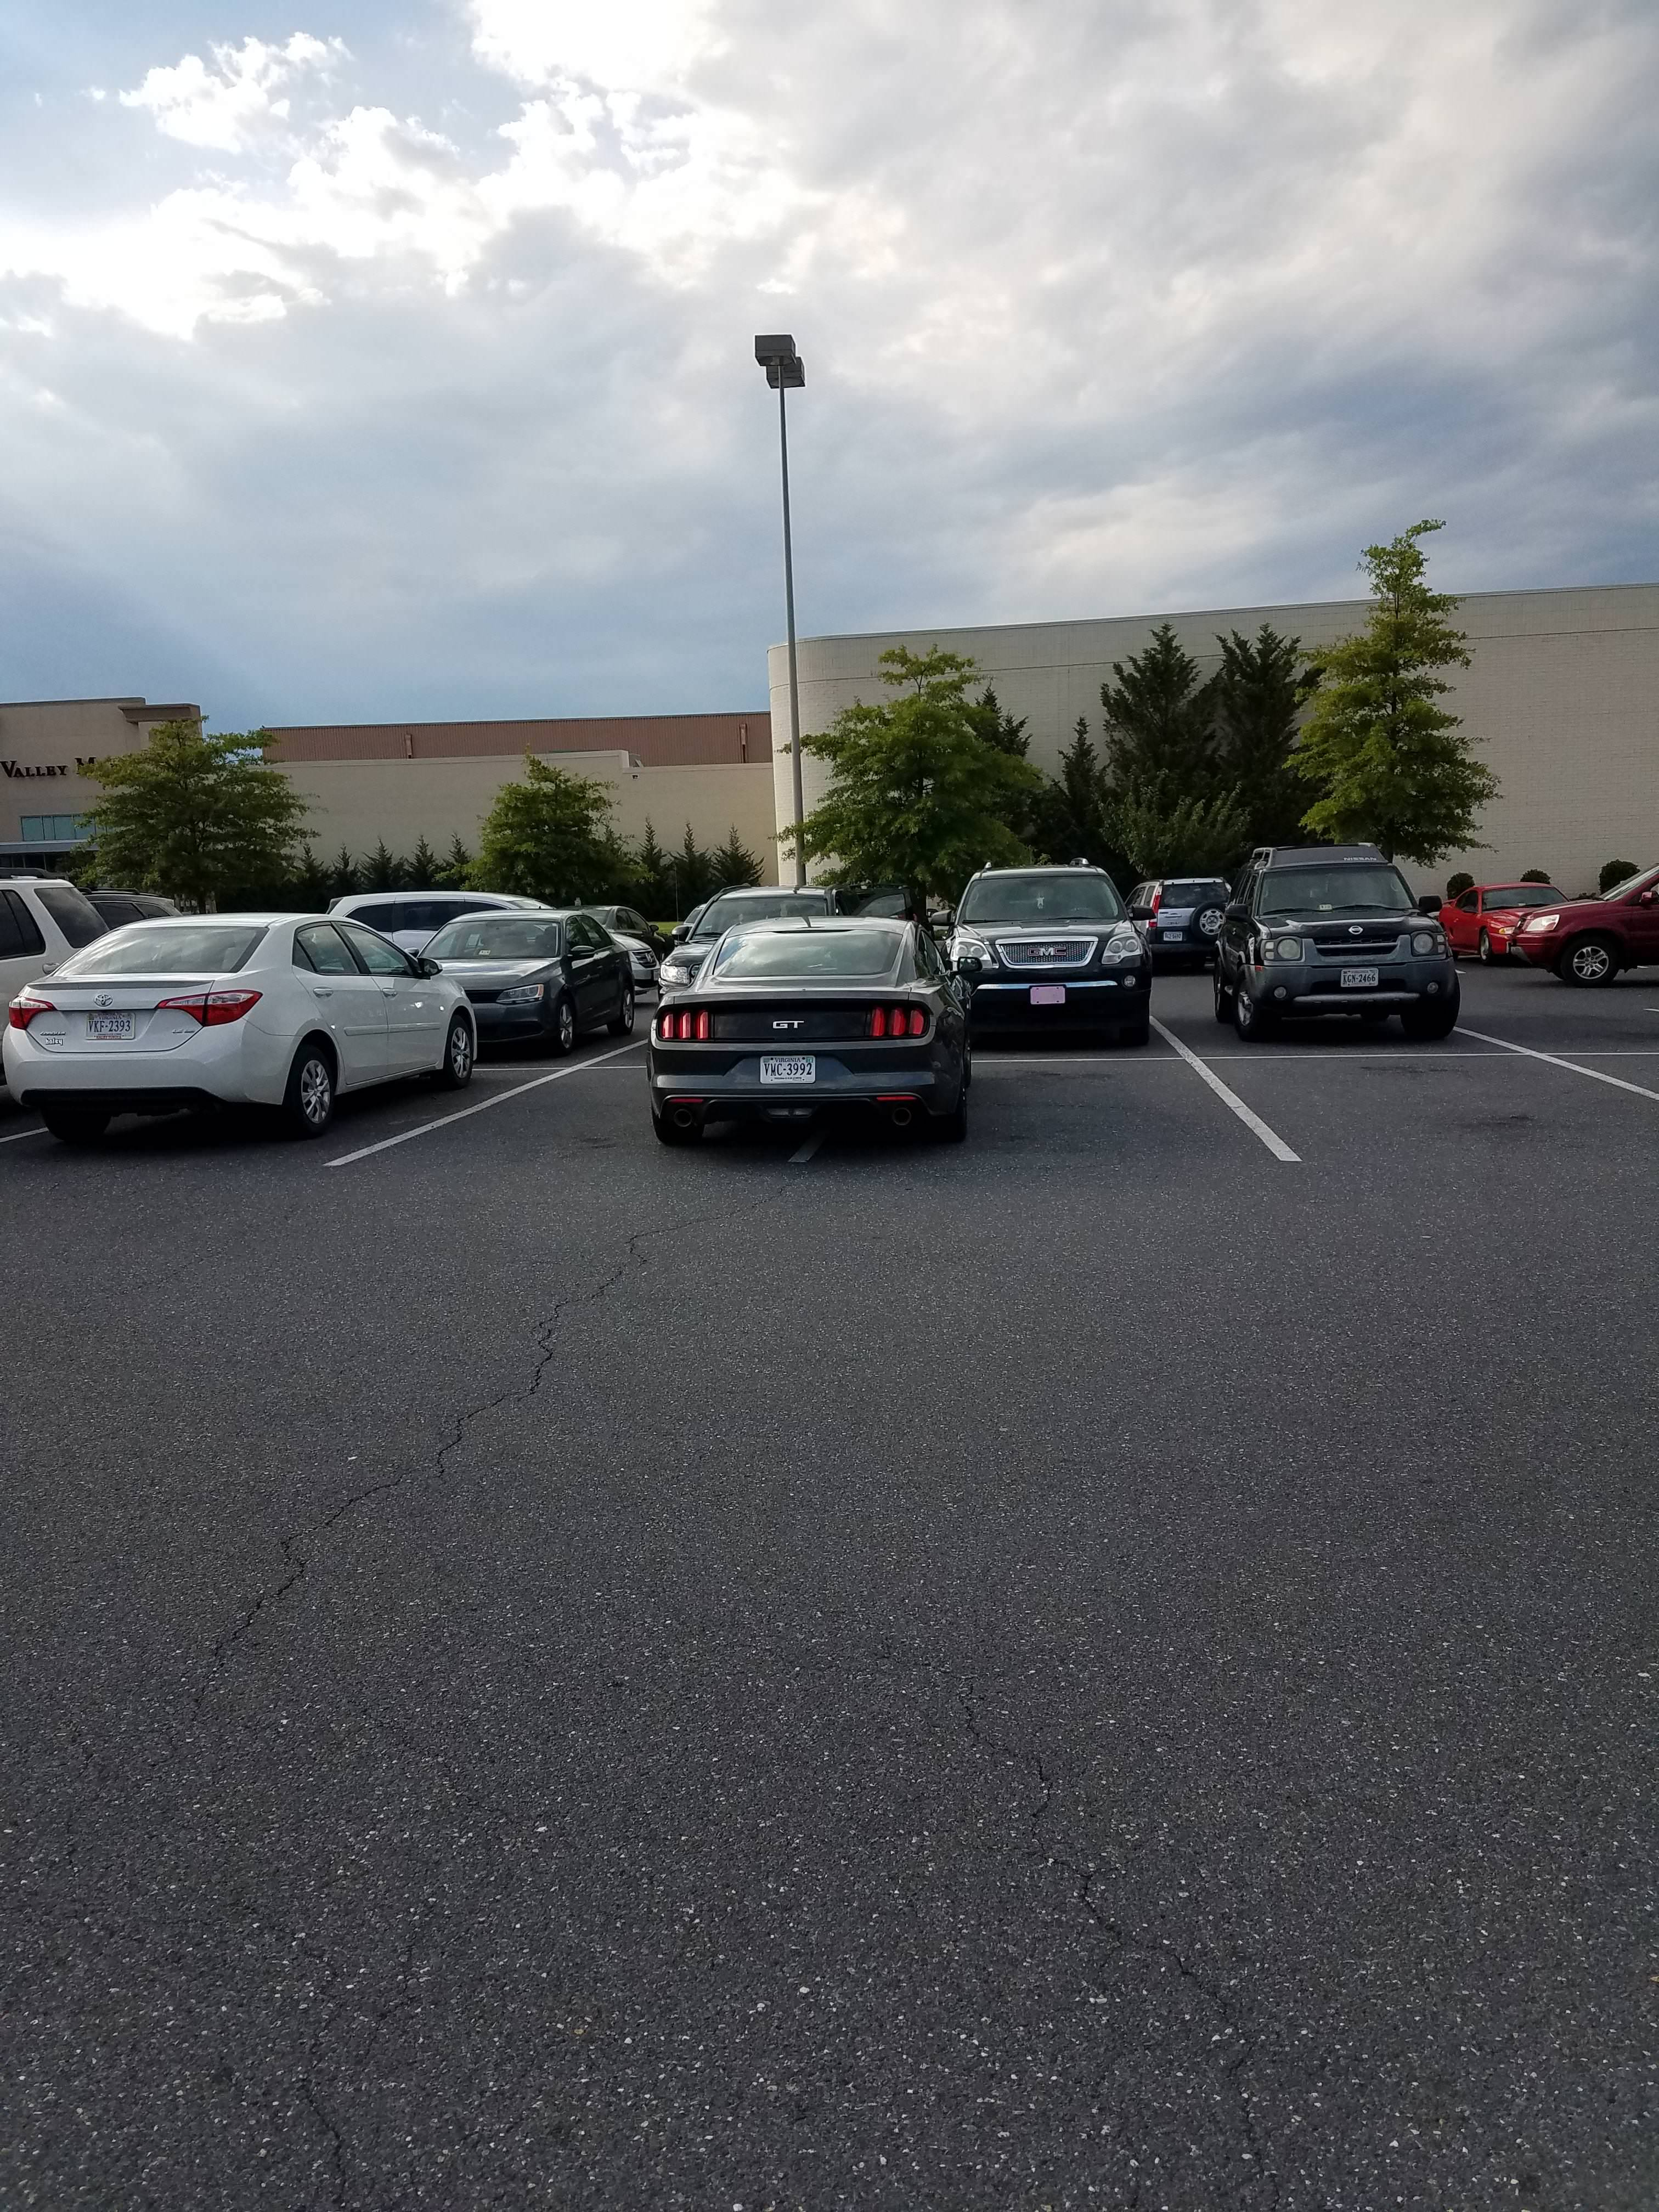empyt_space: (1171, 1045, 1659, 1230), (1436, 963, 1659, 1050)
